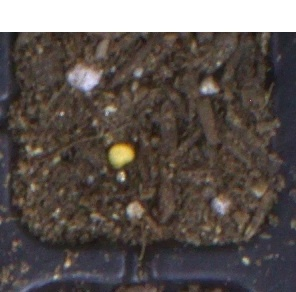chilli seed: (107, 143, 135, 170)
